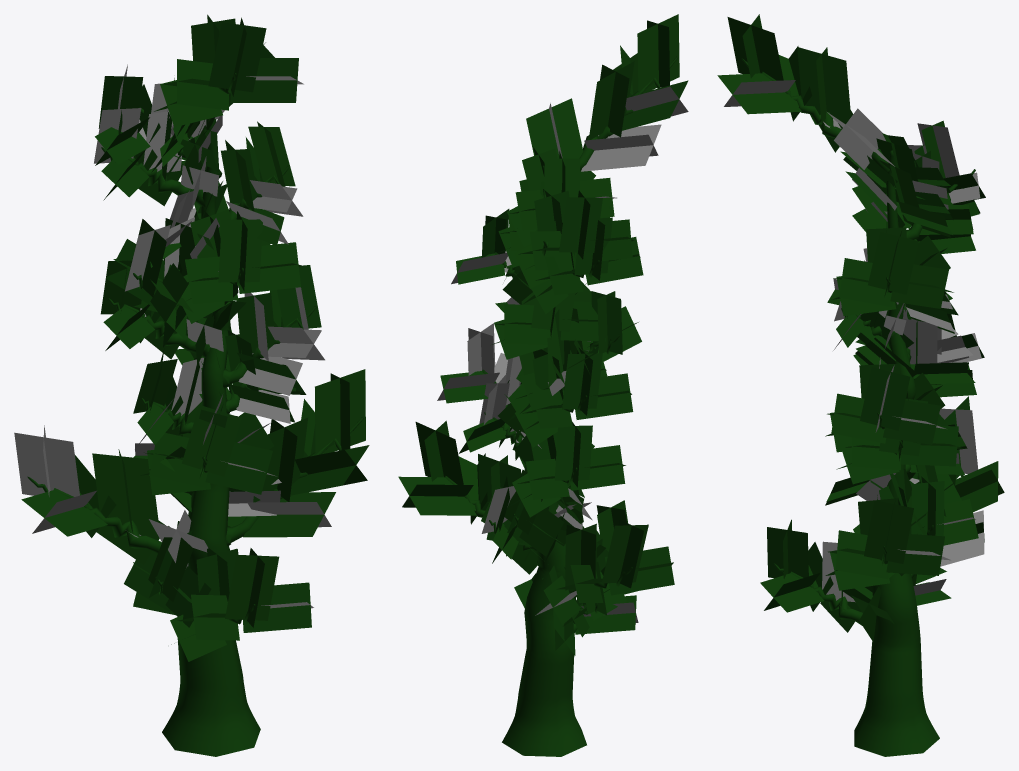
The model's file is Tree C11.obj.
3 views of the same model, side by side, from view 1: azimuth 30°, elevation 25°; view 2: azimuth 150°, elevation 25°; view 3: azimuth 270°, elevation 25° (orthographic). The views are drawn at different scales.
Visible parts, largest first — view 1: TreeCC2 Trees; view 2: TreeCC2 Trees; view 3: TreeCC2 Trees.
Boxes of the visible parts, left/top/right/bottom form: TreeCC2 Trees: left=14, top=14, right=369, bottom=756; TreeCC2 Trees: left=398, top=14, right=688, bottom=756; TreeCC2 Trees: left=717, top=14, right=1004, bottom=756.
Bounding box in the file's own units: 2.44 × 5.7 × 2.13.
